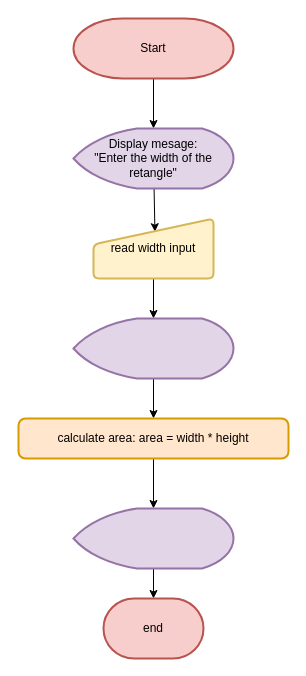
Some shapes in this 306 by 676 pixel diagram are drawn without their labels. The shapes that lost their labels are listed below. From the top down, each one's box as (x1, y1, x2, y2) in pixels, then its label:
(72, 317, 234, 379): Display mesage: "Enter the height of the retangle"
(72, 507, 234, 569): Display mesage: "Enter area of the retangle is",area
